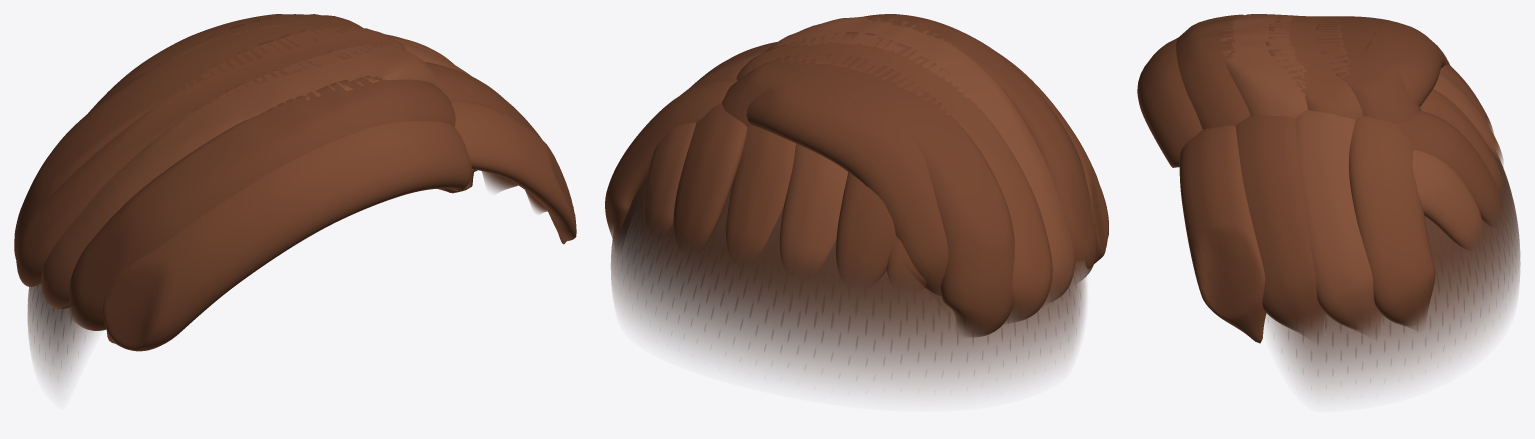
File: Masculine-taper-pashmina258-hair.glb
3 views of the same model, side by side, from view 1: azimuth 30°, elevation 25°; view 2: azimuth 150°, elevation 25°; view 3: azimuth 270°, elevation 25° (orthographic). The views are drawn at different scales.
Parts seen in each view (by area): view 1: 226 hair / Hair258 / sculpted side sweep 1, 226 hair / Hair258 / sculpted side sweep 0, 226 hair / Hair258 / sculpted side sweep 2, 226 hair / Hair258 / smooth side fade; view 2: 226 hair / Hair258 / sculpted side sweep 0, 226 hair / Hair258 / smooth side fade, 226 hair / Hair258 / sculpted side sweep 1, 226 hair / Hair258 / sculpted side sweep 2, 226 hair / Hair258 / directional fade marks; view 3: 226 hair / Hair258 / sculpted side sweep 1, 226 hair / Hair258 / sculpted side sweep 0, 226 hair / Hair258 / sculpted side sweep 2, 226 hair / Hair258 / smooth side fade, 226 hair / Hair258 / directional fade marks.
Boxes of the visible parts, x1=… form: 226 hair / Hair258 / sculpted side sweep 1: x1=16, y1=26, x2=576, y2=351; 226 hair / Hair258 / sculpted side sweep 0: x1=14, y1=14, x2=547, y2=330; 226 hair / Hair258 / sculpted side sweep 2: x1=41, y1=42, x2=518, y2=308; 226 hair / Hair258 / smooth side fade: x1=28, y1=283, x2=95, y2=386; 226 hair / Hair258 / sculpted side sweep 0: x1=673, y1=14, x2=1097, y2=337; 226 hair / Hair258 / smooth side fade: x1=611, y1=177, x2=1085, y2=392; 226 hair / Hair258 / sculpted side sweep 1: x1=605, y1=32, x2=1108, y2=323; 226 hair / Hair258 / sculpted side sweep 2: x1=643, y1=16, x2=1075, y2=302; 226 hair / Hair258 / directional fade marks: x1=619, y1=179, x2=1080, y2=365; 226 hair / Hair258 / sculpted side sweep 1: x1=1137, y1=15, x2=1503, y2=343; 226 hair / Hair258 / sculpted side sweep 0: x1=1176, y1=14, x2=1502, y2=333; 226 hair / Hair258 / sculpted side sweep 2: x1=1217, y1=14, x2=1503, y2=330; 226 hair / Hair258 / smooth side fade: x1=1265, y1=145, x2=1520, y2=393; 226 hair / Hair258 / directional fade marks: x1=1288, y1=145, x2=1515, y2=372.
Bounding box in the file's own units: 0.9754 × 0.6156 × 0.7505.
